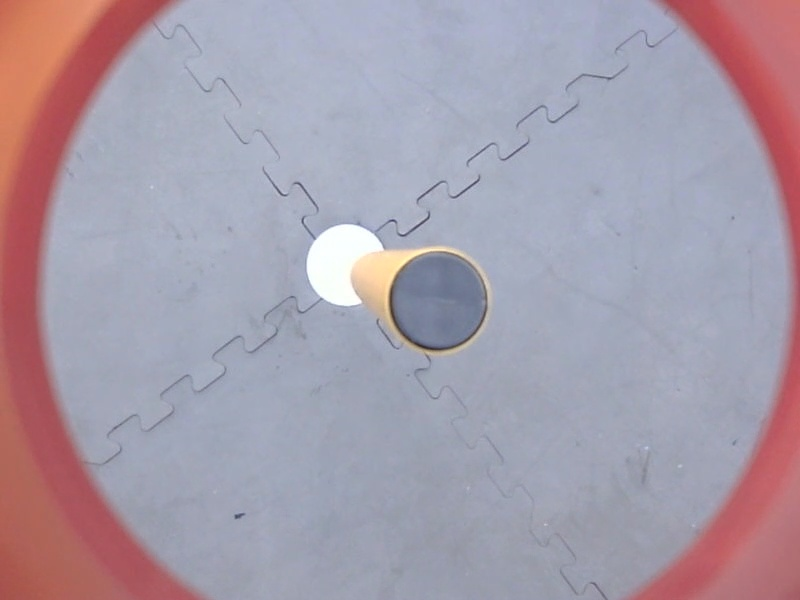tip: (379, 240, 498, 358)
